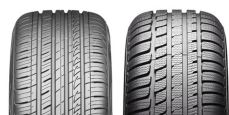new_condition: (123, 8, 226, 114), (8, 9, 111, 114)
